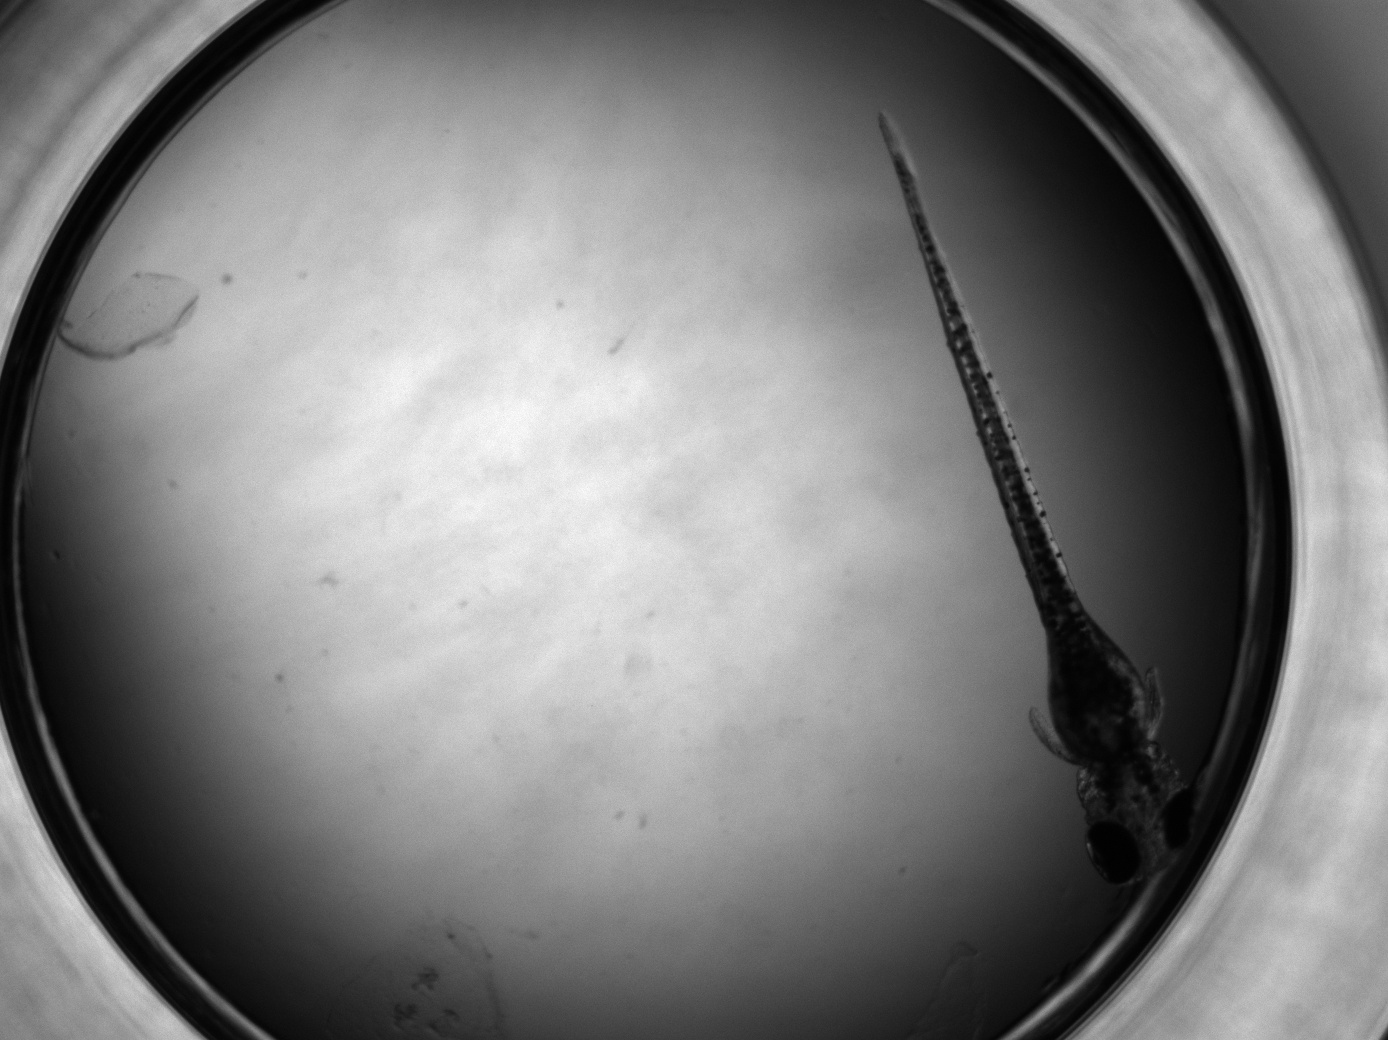debris: (54, 263, 201, 365)
embryo: (876, 106, 1200, 885)
eye: (1084, 820, 1142, 884), (1161, 789, 1199, 851)
yolksac: (1046, 633, 1152, 765)
